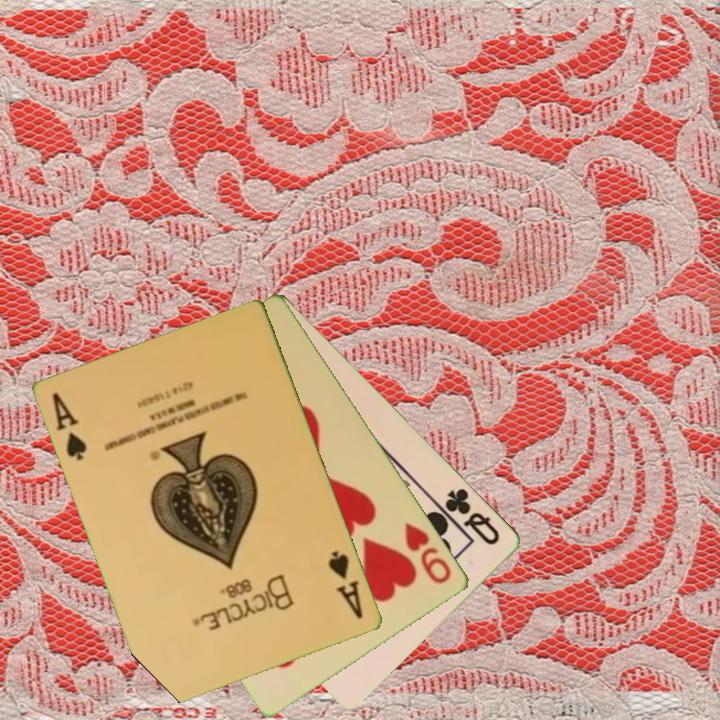9h: (401, 519, 455, 587)
As: (325, 547, 367, 622), (49, 389, 91, 464)
Qc: (442, 484, 503, 549)
